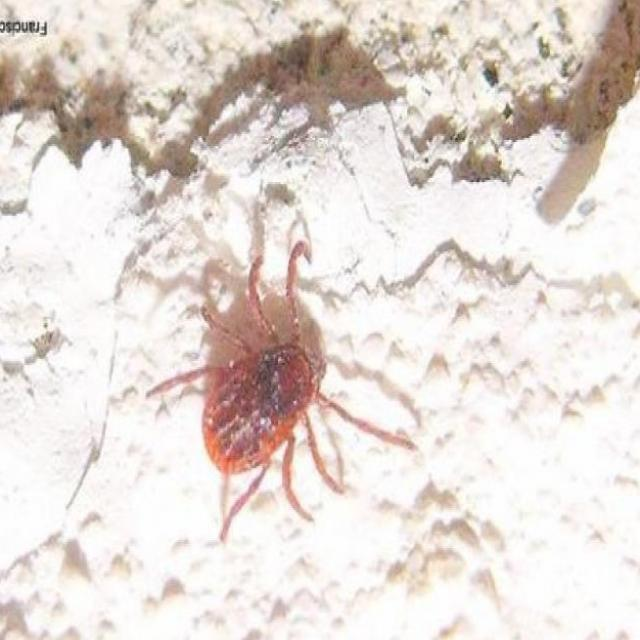Rhipicephalus Sanguineus-F: (148, 237, 418, 540)
